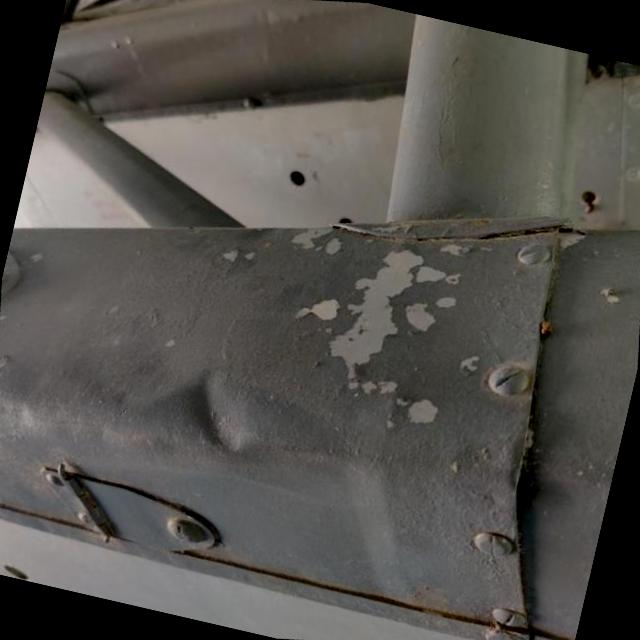dent: (164, 362, 280, 464)
